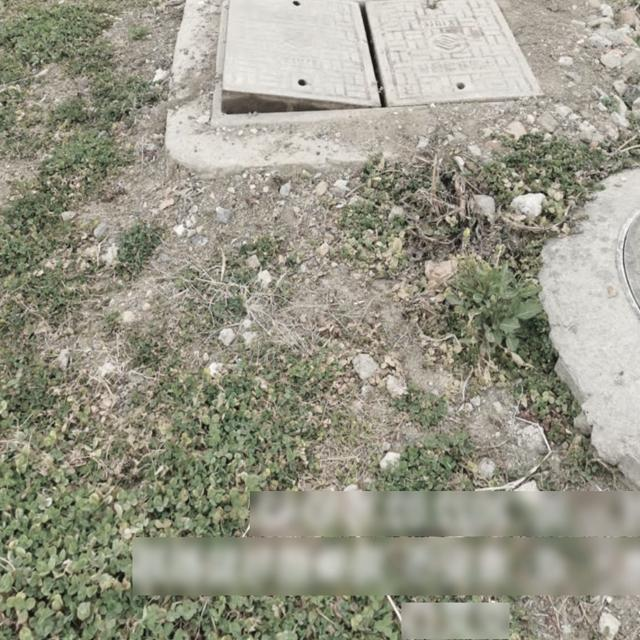uncovered: (213, 0, 545, 125)
